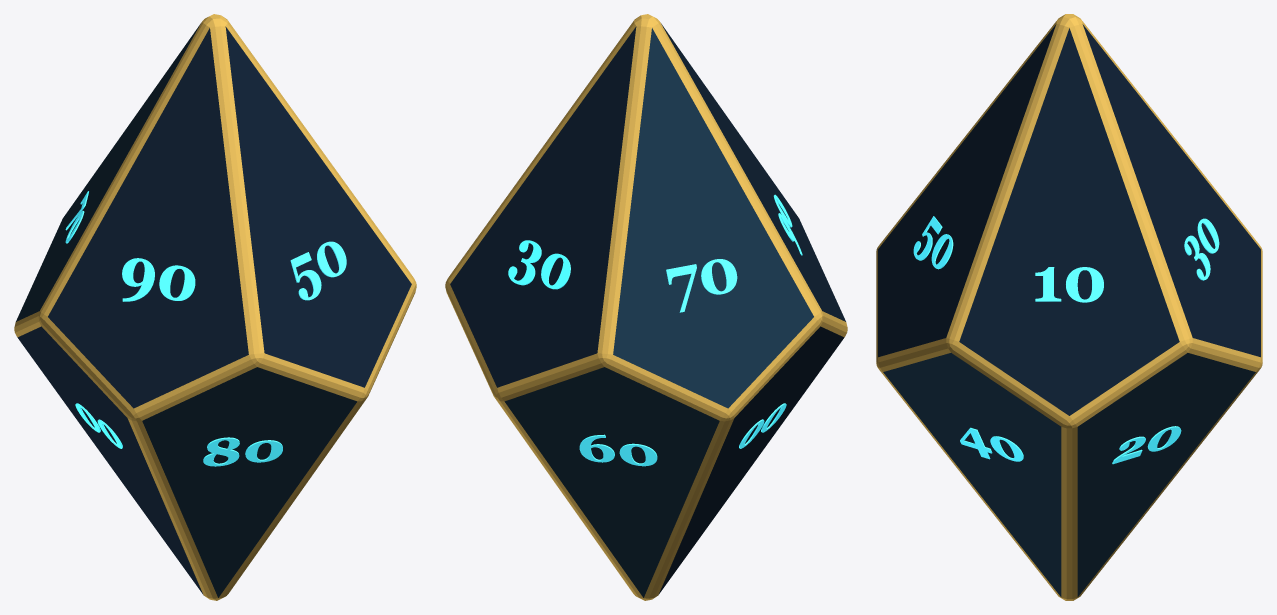
The model's file is dpercent_leo.glb.
3 renders of one model, left to right at view 1: azimuth 30°, elevation 25°; view 2: azimuth 150°, elevation 25°; view 3: azimuth 270°, elevation 25°, orthographic.
Parts seen in each view (by area): view 1: DiceBody, Number_09, Number_05, Number_08; view 2: DiceBody, Number_03, Number_07, Number_06; view 3: DiceBody, Number_01, Number_03, Number_05, Number_02, Number_04.
Part boxes in pixels (<box>): DiceBody: <box>14,14,416,600</box>; Number_09: <box>122,258,195,301</box>; Number_05: <box>290,241,346,300</box>; Number_08: <box>203,437,282,466</box>; DiceBody: <box>445,14,847,600</box>; Number_03: <box>508,240,570,289</box>; Number_07: <box>666,259,737,312</box>; Number_06: <box>579,434,657,466</box>; DiceBody: <box>876,14,1262,600</box>; Number_01: <box>1035,267,1103,302</box>; Number_03: <box>1184,218,1219,280</box>; Number_05: <box>913,216,953,269</box>; Number_02: <box>1112,426,1181,464</box>; Number_04: <box>960,427,1023,461</box>.
Bounding box in the file's own units: 2.39 × 3.78 × 2.27.
